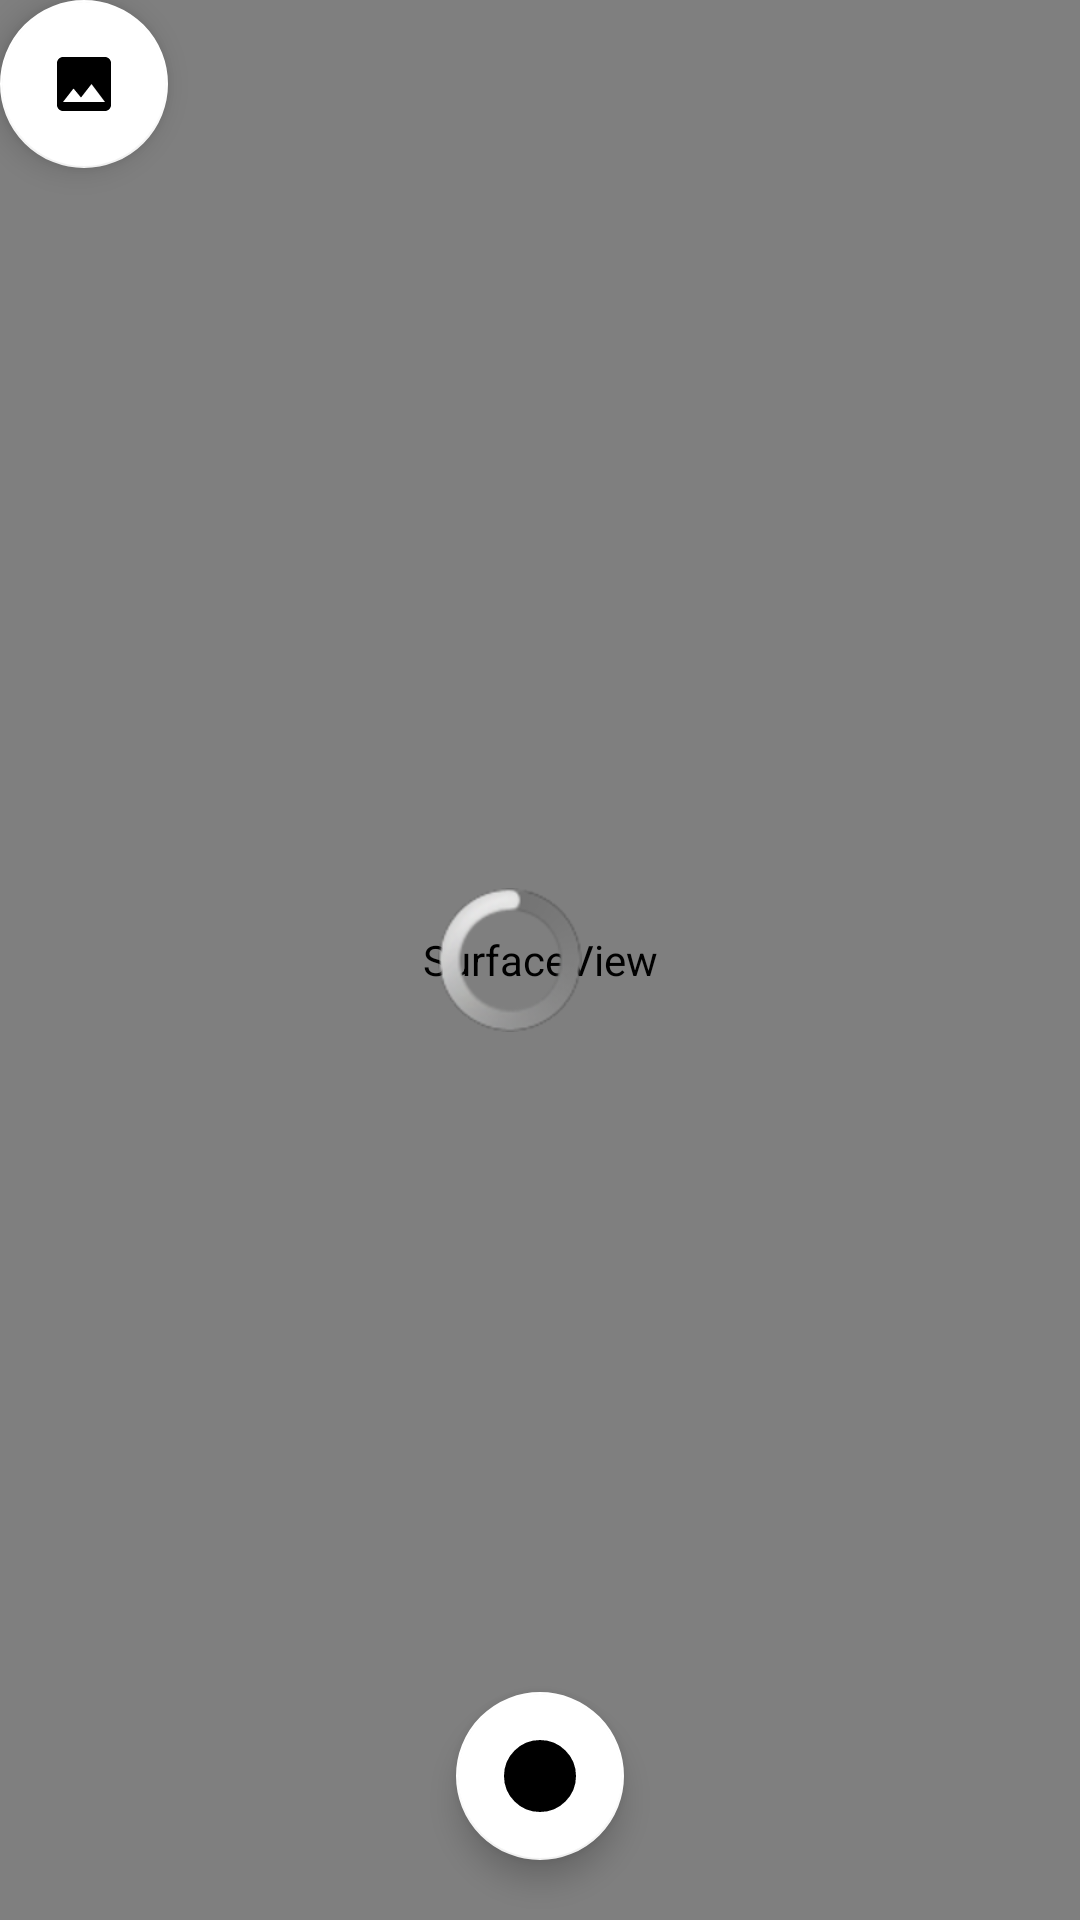

Where icons sit on this 1080x1920 app screen, as (x1, y1, x2, y2):
camera: (456, 1692, 624, 1860)
selectimage: (0, 0, 168, 168)
